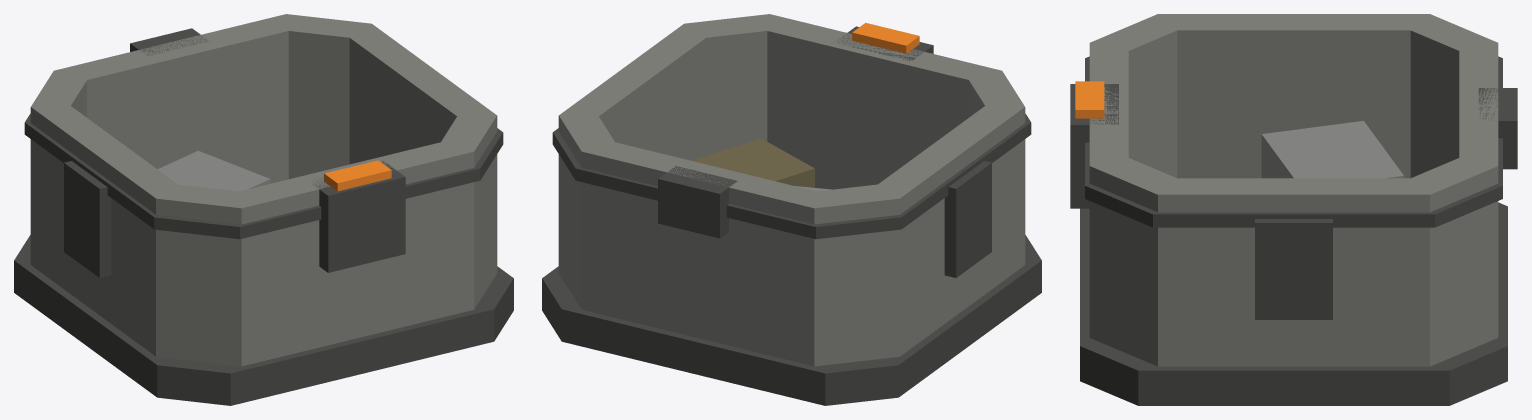
Rendered from sealed_crate_open.obj.
3 renders of one model, left to right at view 1: azimuth 30°, elevation 25°; view 2: azimuth 150°, elevation 25°; view 3: azimuth 270°, elevation 25°, orthographic. The views are drawn at different scales.
Visible parts, largest first — view 1: sealed_crate_open; view 2: sealed_crate_open; view 3: sealed_crate_open.
Boxes of the visible parts, <box> form: sealed_crate_open: <box>14,14,513,405</box>; sealed_crate_open: <box>542,14,1041,405</box>; sealed_crate_open: <box>1070,14,1517,405</box>.
Bounding box in the file's own units: 0.94 × 0.49 × 0.92.
